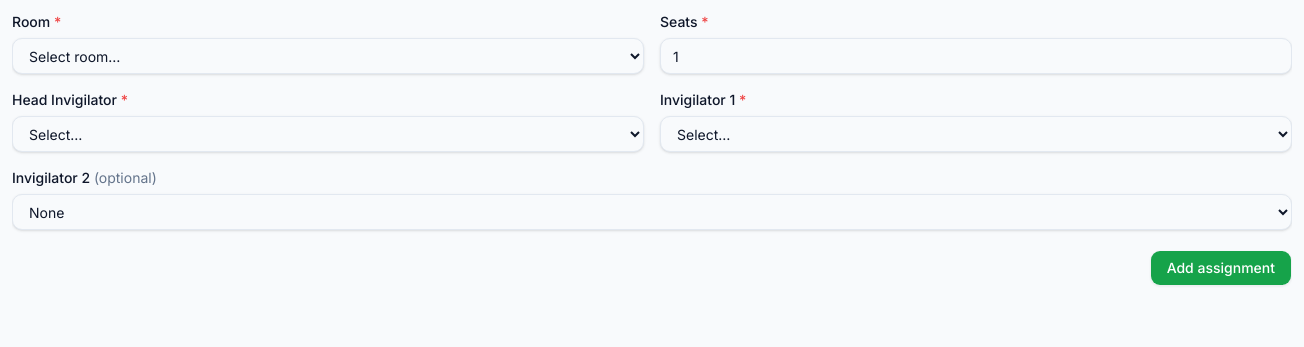
Test: AssignmentForm › form validation › shows error when invigilator 1 is not selected on submit
Select "101 (cap 50)" in the dropdown labelled "Room *": (328, 56) [12,38,644,74]
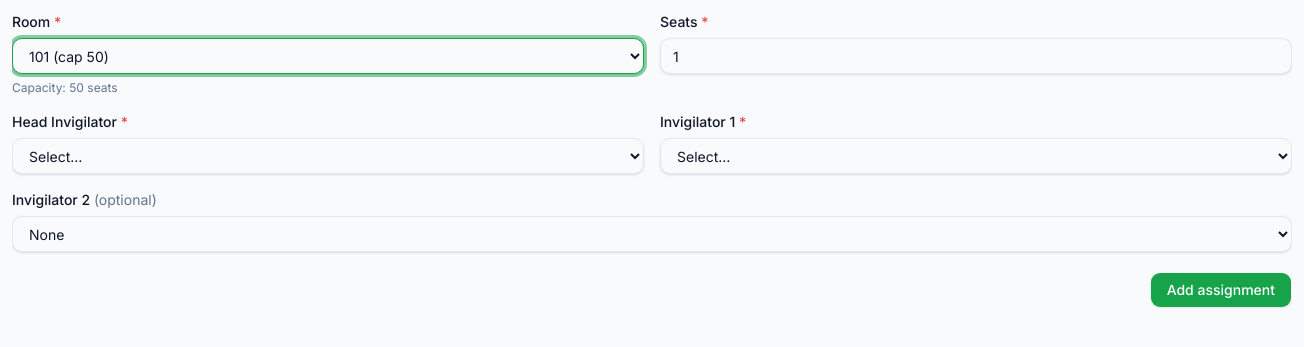
Select "Alice Smith — Math" in the dropdown labelled "Head Invigilator *": (328, 156) [12,138,644,174]
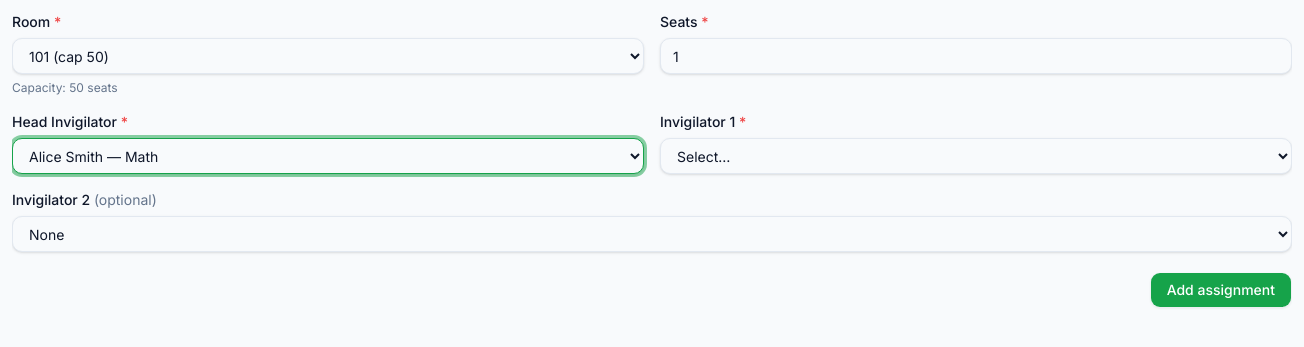
Click the button "Add assignment": (1221, 290) [1150,272,1292,308]
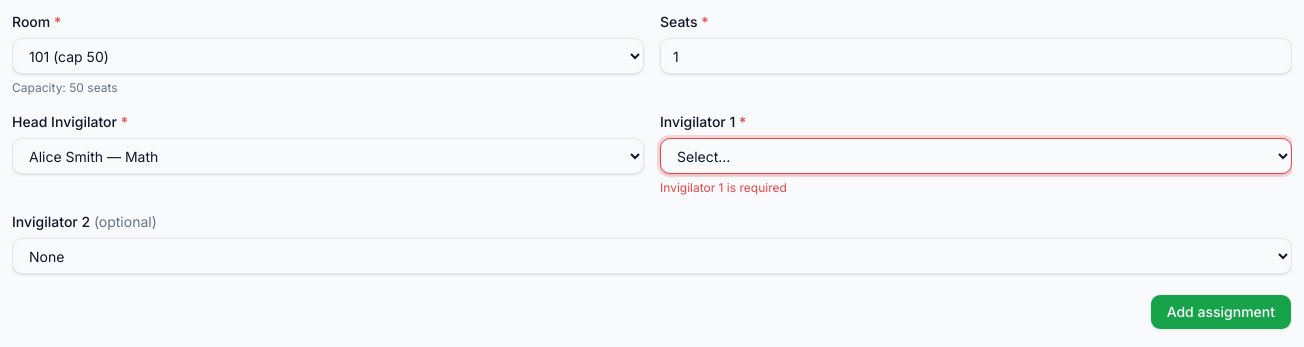
expect the text "Invigilator 1 is required" is shown: met, box [660,180,787,195]
